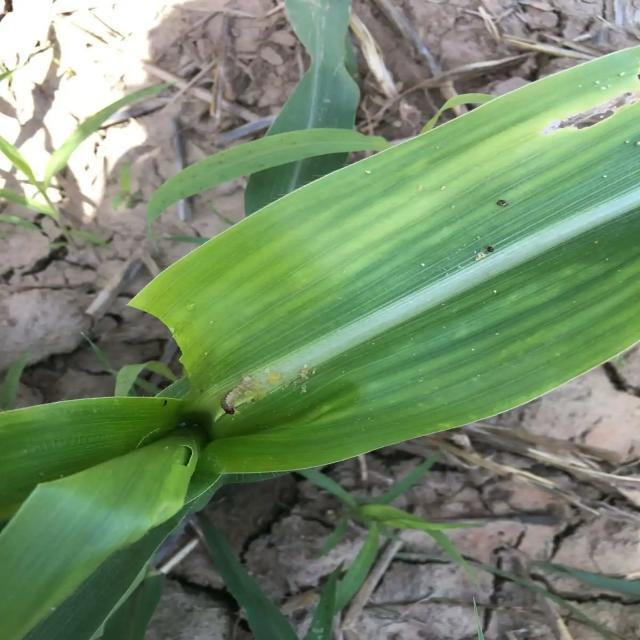pest: (222, 378, 256, 420)
